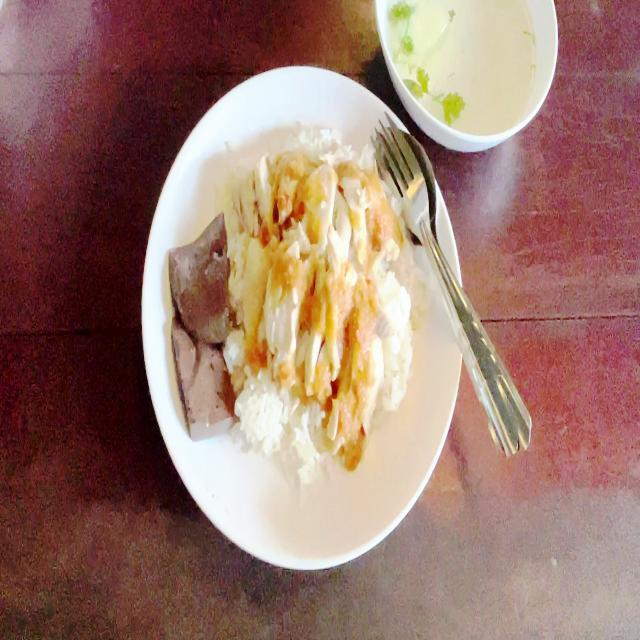boiled_chicken: (235, 152, 393, 434)
boiled_chicken_blood_jelly: (162, 306, 234, 432), (170, 205, 232, 346)
chicken_rice: (165, 123, 422, 479)
